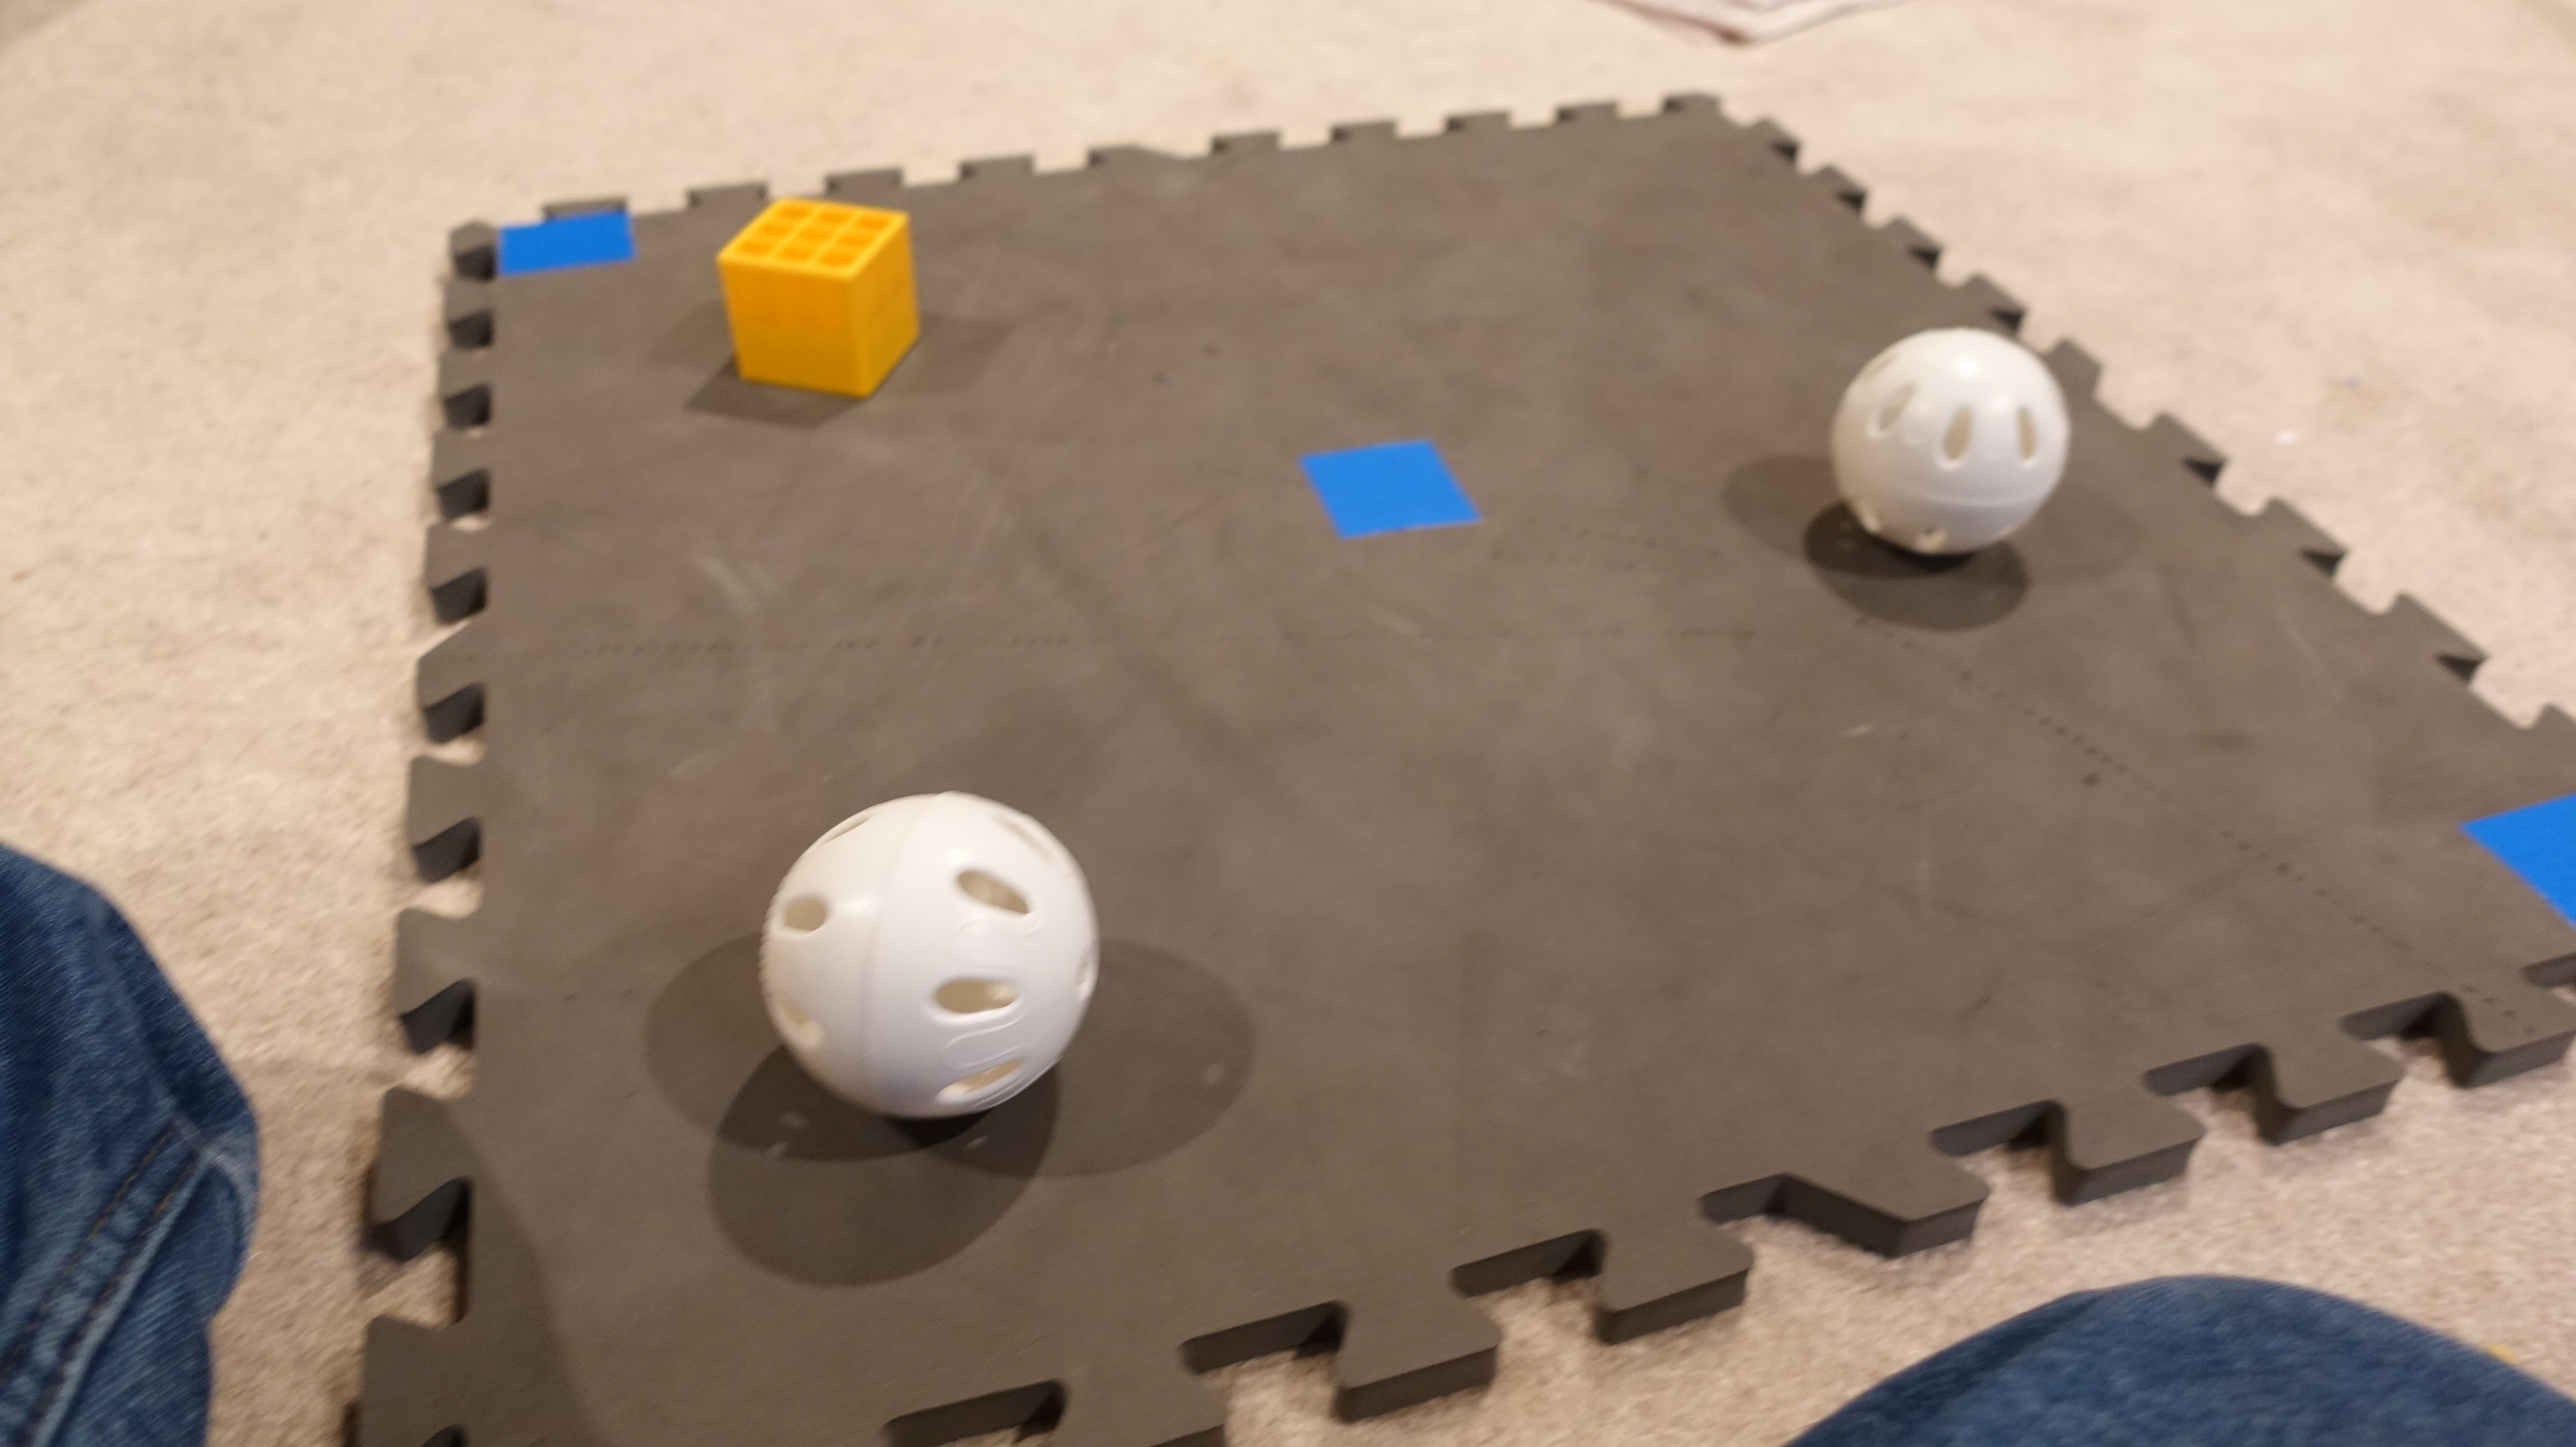gold: (708, 188, 929, 405)
silver: (747, 785, 1118, 1130), (1819, 315, 2082, 561)
